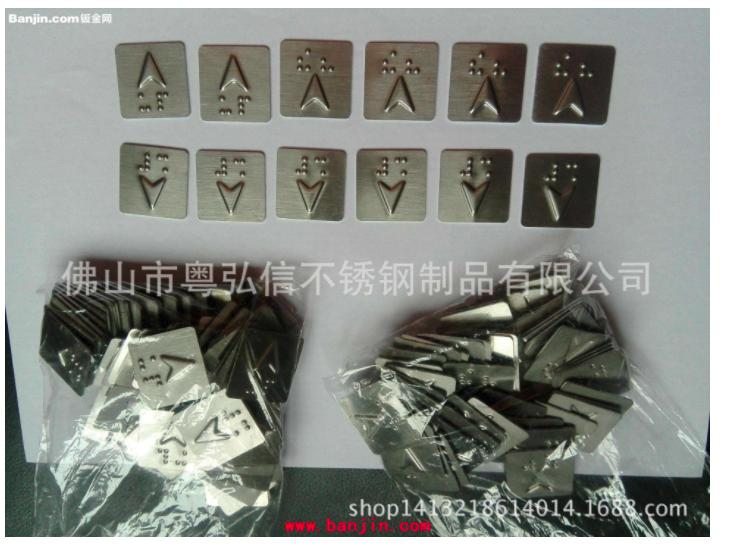Braille: (404, 46, 423, 76), (381, 46, 399, 76), (319, 46, 336, 75), (577, 52, 595, 79), (555, 50, 571, 80), (468, 50, 485, 78), (297, 45, 313, 73), (493, 49, 508, 78), (136, 150, 153, 173), (213, 154, 228, 178), (294, 153, 309, 177), (137, 91, 152, 114), (156, 90, 170, 114), (233, 156, 247, 180), (460, 155, 474, 179), (314, 155, 329, 177), (219, 94, 233, 117), (238, 93, 252, 116), (480, 157, 494, 180), (157, 152, 170, 176), (375, 157, 389, 178), (395, 156, 408, 178), (544, 163, 558, 183), (567, 163, 579, 183)
